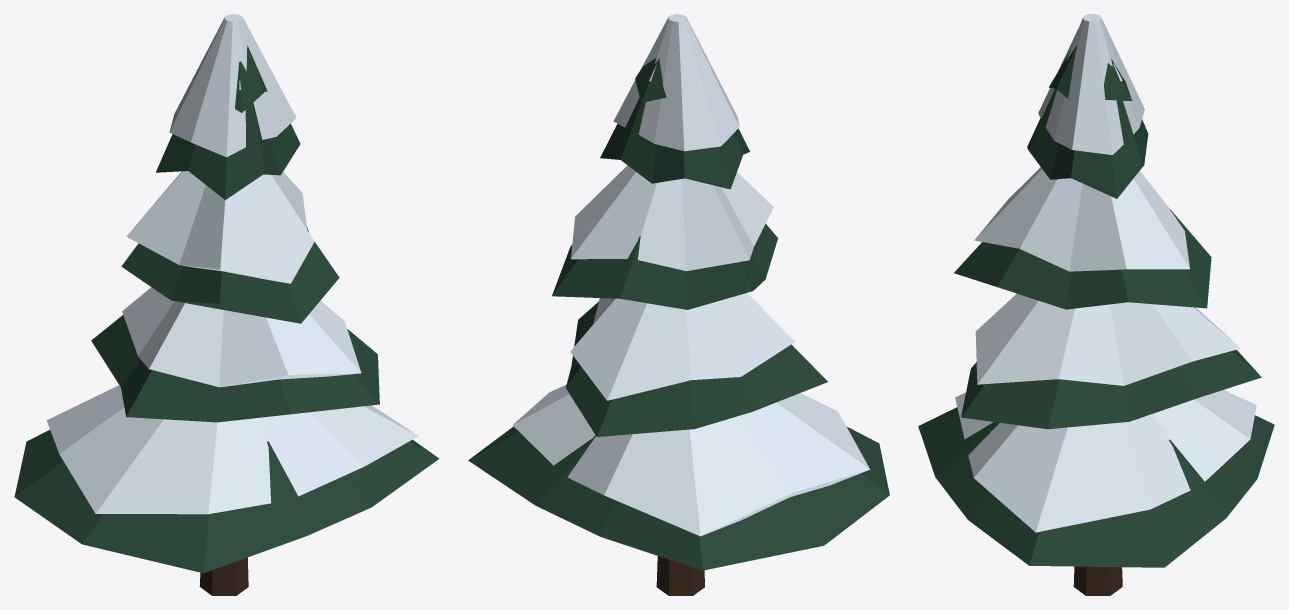
File: Station_Pine_1_0_0.fbx
The picture shows the model from 3 angles, left to right: view 1: azimuth 30°, elevation 25°; view 2: azimuth 150°, elevation 25°; view 3: azimuth 270°, elevation 25°; orthographic projection.
Visible parts, largest first — view 1: Station_Pine_1_0_0; view 2: Station_Pine_1_0_0; view 3: Station_Pine_1_0_0.
Part boxes in pixels (x1,y1,x2,y2): Station_Pine_1_0_0: (14, 14, 438, 595); Station_Pine_1_0_0: (468, 14, 889, 595); Station_Pine_1_0_0: (918, 14, 1274, 595).
Bounding box in the file's own units: 440 × 669 × 378.
